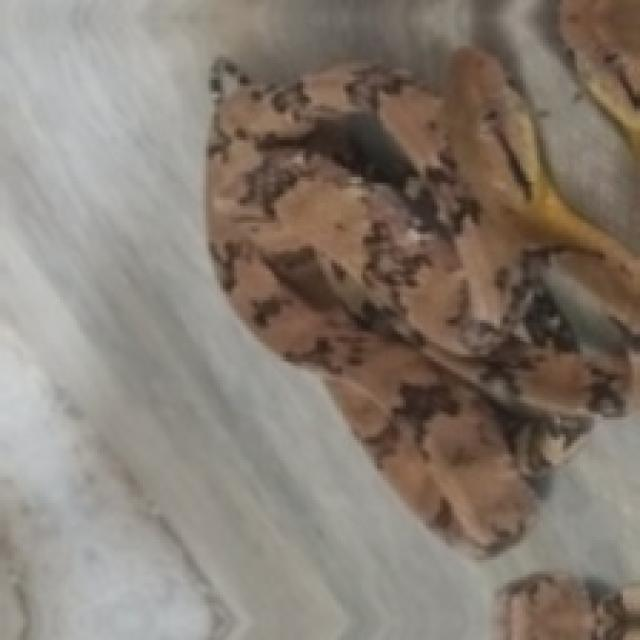dog-toothed cat snake: (209, 46, 637, 551)
